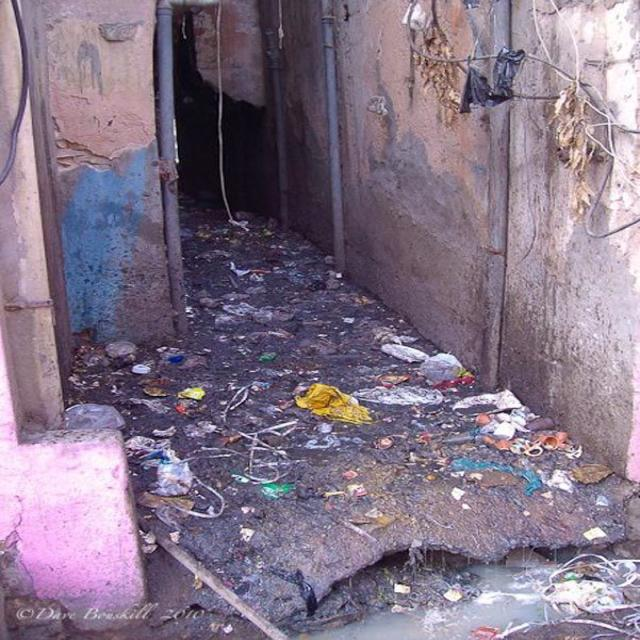garbage: (18, 190, 640, 640)
